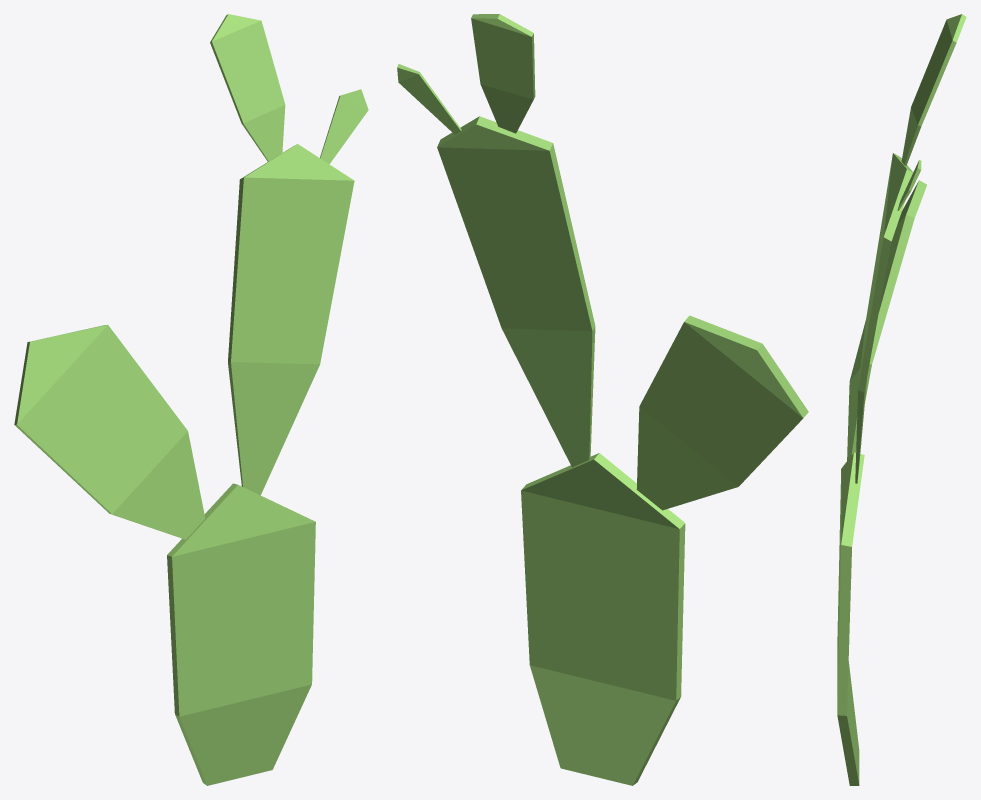
The model's file is Cactus_c_m_03.fbx.
The picture shows the model from 3 angles, left to right: view 1: azimuth 30°, elevation 25°; view 2: azimuth 150°, elevation 25°; view 3: azimuth 270°, elevation 25°; orthographic projection. The views are drawn at different scales.
Visible parts, largest first — view 1: Cactus_c_m_03; view 2: Cactus_c_m_03; view 3: Cactus_c_m_03.
Part boxes in pixels (x1,y1,x2,y2): Cactus_c_m_03: [14, 14, 368, 785]; Cactus_c_m_03: [397, 14, 808, 785]; Cactus_c_m_03: [837, 14, 966, 785].
Bounding box in the file's own units: 128 × 243 × 36.73.
